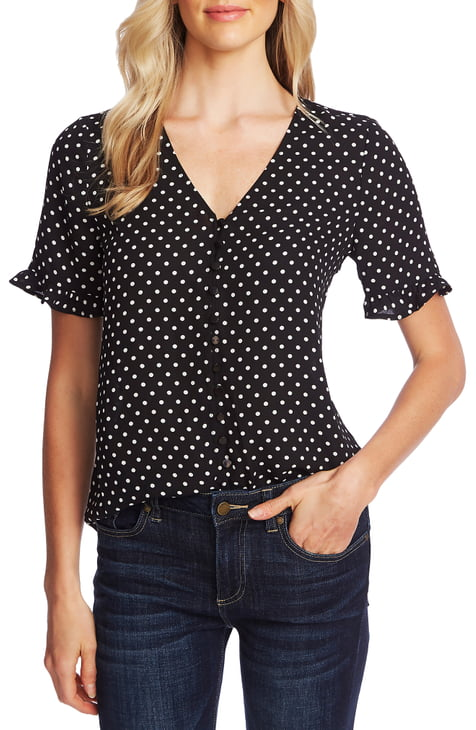C_jeans: (89, 475, 386, 730)
C_short blouse: (10, 103, 459, 529)
